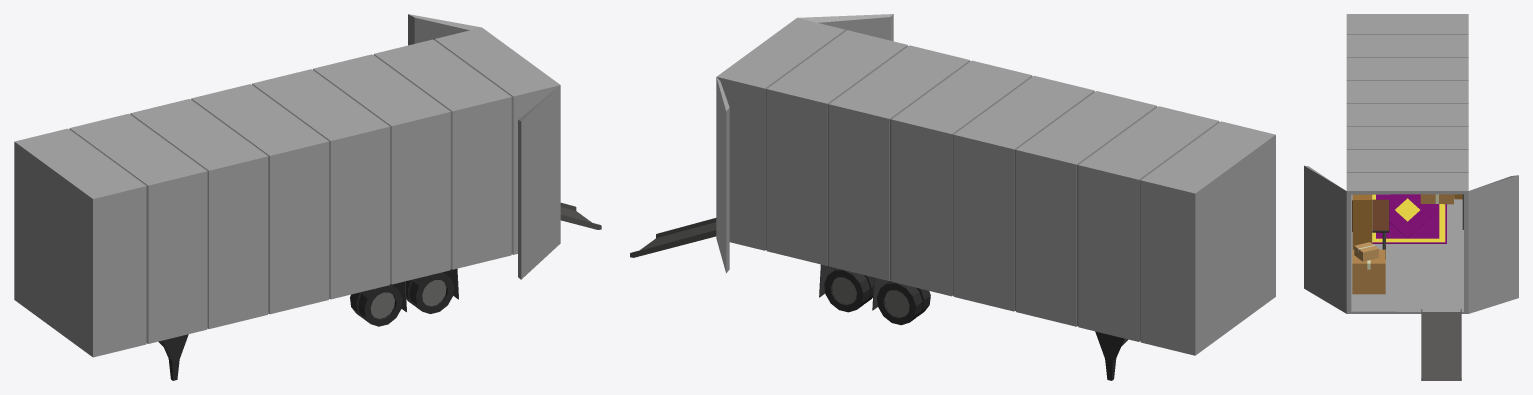
The model's file is SemiTruck.fbx.
3 views of the same model, side by side, from view 1: azimuth 30°, elevation 25°; view 2: azimuth 150°, elevation 25°; view 3: azimuth 270°, elevation 25° (orthographic). The views are drawn at different scales.
Parts seen in each view (by area): view 1: Trailer, Ramp; view 2: Trailer, Ramp; view 3: Trailer, Rug, Ramp, Box, Box.002, Desk, Couch, Box.001.
Part boxes in pixels (x1,y1,x2,y2): Trailer: [14, 14, 560, 380]; Ramp: [560, 202, 601, 229]; Trailer: [716, 14, 1275, 380]; Ramp: [630, 218, 716, 257]; Trailer: [1304, 14, 1518, 313]; Rug: [1372, 194, 1446, 243]; Ramp: [1421, 309, 1461, 380]; Box: [1352, 249, 1385, 294]; Box.002: [1352, 194, 1372, 249]; Desk: [1352, 199, 1389, 259]; Couch: [1420, 194, 1462, 204]; Box.001: [1354, 242, 1378, 261].
Bounding box in the file's own units: 1738 × 615 × 749.
